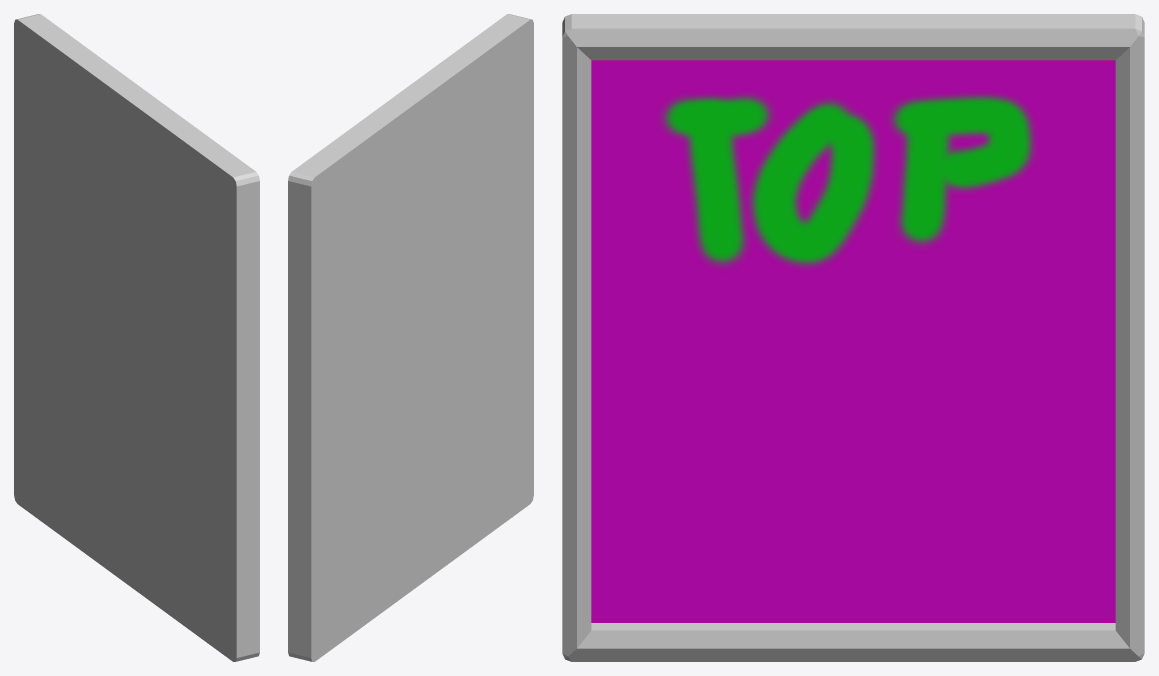
File: PaintingFrame_Template.fbx
The picture shows the model from 3 angles, left to right: view 1: azimuth 30°, elevation 25°; view 2: azimuth 150°, elevation 25°; view 3: azimuth 270°, elevation 25°; orthographic projection. The views are drawn at different scales.
Parts seen in each view (by area): view 1: Painting_Frame; view 2: Painting_Frame; view 3: Painting_Canvas, Painting_Frame.
Part boxes in pixels (box(x1,y1,x2,y2)): Painting_Frame: box(14, 14, 259, 661); Painting_Frame: box(288, 14, 533, 661); Painting_Canvas: box(591, 60, 1115, 622); Painting_Frame: box(562, 14, 1144, 661).
Bounding box in the file's own units: 7 × 120 × 100.
